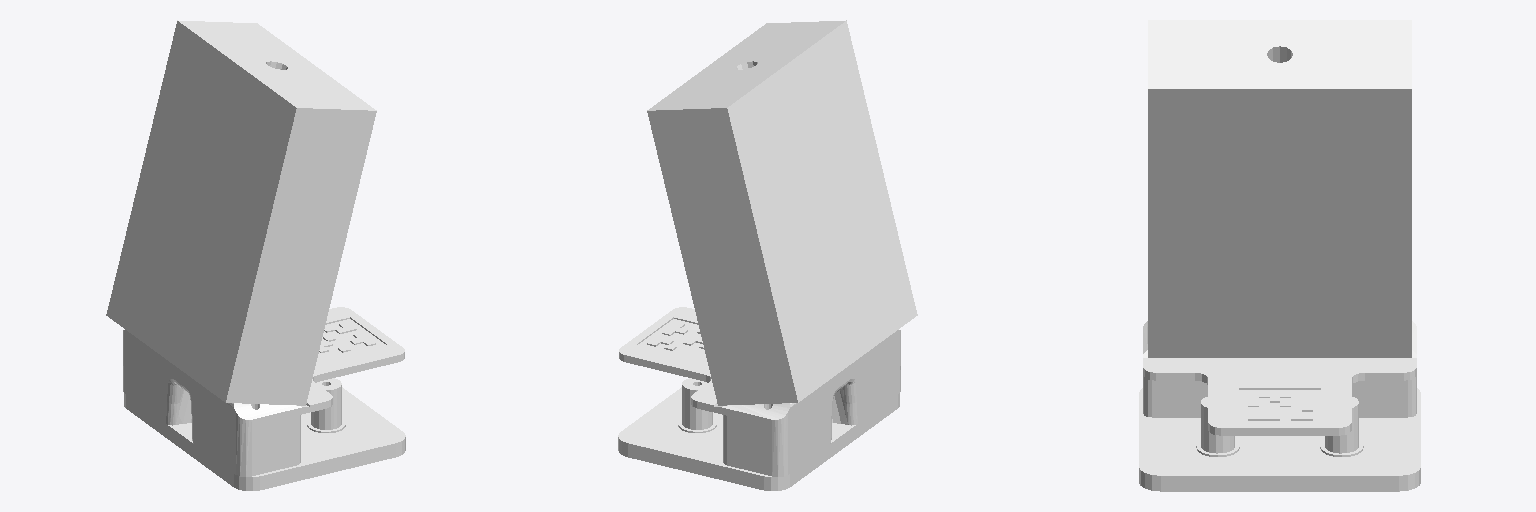
robot.urdf — osmo定位.SLDASM:
<?xml version="1.0" encoding="utf-8"?>
<!-- This URDF was automatically created by SolidWorks to URDF Exporter! Originally created by Stephen Brawner (brawner@gmail.com)
     Commit Version: 1.6.0-4-g7f85cfe  Build Version: 1.6.7995.38578
     For more information, please see http://wiki.ros.org/sw_urdf_exporter -->
<robot
  name="osmo定位.SLDASM">
  <link
    name="base_link">
    <inertial>
      <origin
        xyz="-0.00190800455772091 -5.95801897006382E-08 0.0497136469309621"
        rpy="0 0 0" />
      <mass
        value="0.155014735599179" />
      <inertia
        ixx="0.000110875999057287"
        ixy="-2.31405517320373E-11"
        ixz="-1.51123279184855E-05"
        iyy="7.71809398302612E-05"
        iyz="-9.14781960100981E-12"
        izz="6.46165721659726E-05" />
    </inertial>
    <visual>
      <origin
        xyz="0 0 0"
        rpy="0 0 0" />
      <geometry>
        <mesh
          filename="package://osmo定位.SLDASM/meshes/base_link.STL" />
      </geometry>
      <material
        name="">
        <color
          rgba="1 1 1 1" />
      </material>
    </visual>
    <collision>
      <origin
        xyz="0 0 0"
        rpy="0 0 0" />
      <geometry>
        <mesh
          filename="package://osmo定位.SLDASM/meshes/base_link.STL" />
      </geometry>
    </collision>
  </link>
  <link
    name="Link1">
    <inertial>
      <origin
        xyz="0.037025614515252 0.0305499850421777 -0.00642031161036461"
        rpy="0 0 0" />
      <mass
        value="0.0684750972529842" />
      <inertia
        ixx="2.69677425056663E-05"
        ixy="-2.76963171441598E-05"
        ixz="2.56368474786232E-06"
        iyy="4.07829679383922E-05"
        iyz="1.8004274633898E-06"
        izz="6.17863318013985E-05" />
    </inertial>
    <visual>
      <origin
        xyz="0 0 0"
        rpy="0 0 0" />
      <geometry>
        <mesh
          filename="package://osmo定位.SLDASM/meshes/Link1.STL" />
      </geometry>
      <material
        name="">
        <color
          rgba="0.866666666666667 0.909803921568627 1 0.25" />
      </material>
    </visual>
    <collision>
      <origin
        xyz="0 0 0"
        rpy="0 0 0" />
      <geometry>
        <mesh
          filename="package://osmo定位.SLDASM/meshes/Link1.STL" />
      </geometry>
    </collision>
  </link>
  <joint
    name="joint1"
    type="continuous">
    <origin
      xyz="0.015 0.01425 0.0150999999999998"
      rpy="0 0 0" />
    <parent
      link="base_link" />
    <child
      link="Link1" />
    <axis
      xyz="0 0 1" />
  </joint>
  <link
    name="Link2">
    <inertial>
      <origin
        xyz="0.0441681102714786 -0.0352122754981226 -0.00654217308141667"
        rpy="0 0 0" />
      <mass
        value="0.0462053821261908" />
      <inertia
        ixx="1.65264504105672E-05"
        ixy="1.78398788205766E-05"
        ixz="1.12401183477899E-06"
        iyy="2.6837862406796E-05"
        iyz="-7.91008674742497E-07"
        izz="3.99491949560464E-05" />
    </inertial>
    <visual>
      <origin
        xyz="0 0 0"
        rpy="0 0 0" />
      <geometry>
        <mesh
          filename="package://osmo定位.SLDASM/meshes/Link2.STL" />
      </geometry>
      <material
        name="">
        <color
          rgba="0.796078431372549 0.823529411764706 0.937254901960784 1" />
      </material>
    </visual>
    <collision>
      <origin
        xyz="0 0 0"
        rpy="0 0 0" />
      <geometry>
        <mesh
          filename="package://osmo定位.SLDASM/meshes/Link2.STL" />
      </geometry>
    </collision>
  </link>
  <joint
    name="joint2"
    type="continuous">
    <origin
      xyz="0.015 -0.01425 0.0156999999999998"
      rpy="0 0 0" />
    <parent
      link="base_link" />
    <child
      link="Link2" />
    <axis
      xyz="0 0 1" />
  </joint>
  <link
    name="Link3">
    <inertial>
      <origin
        xyz="-0.0335979788268196 -4.12330453809764E-07 -0.00557940920693485"
        rpy="0 0 0" />
      <mass
        value="0.0223990424799966" />
      <inertia
        ixx="7.64276396027008E-06"
        ixy="-2.31405517313916E-11"
        ixz="-3.14701338125206E-07"
        iyy="3.37569687388949E-06"
        iyz="-9.14781958731569E-12"
        izz="9.73699898929575E-06" />
    </inertial>
    <visual>
      <origin
        xyz="0 0 0"
        rpy="0 0 0" />
      <geometry>
        <mesh
          filename="package://osmo定位.SLDASM/meshes/Link3.STL" />
      </geometry>
      <material
        name="">
        <color
          rgba="1 1 1 1" />
      </material>
    </visual>
    <collision>
      <origin
        xyz="0 0 0"
        rpy="0 0 0" />
      <geometry>
        <mesh
          filename="package://osmo定位.SLDASM/meshes/Link3.STL" />
      </geometry>
    </collision>
  </link>
  <joint
    name="joint3"
    type="fixed">
    <origin
      xyz="0.02625 0 0.0196"
      rpy="0 0 0" />
    <parent
      link="base_link" />
    <child
      link="Link3" />
    <axis
      xyz="0 0 0" />
  </joint>
</robot>

--- What the picture shows (computed from the rendered views, not written in the file) ---
3 views of the same robot in one strip: view 1: azimuth 30°, elevation 25°; view 2: azimuth 150°, elevation 25°; view 3: azimuth 270°, elevation 25° (orthographic).
Robot: osmo定位.SLDASM — 4 links, 3 joints (2 continuous, 1 fixed); root link base_link; default pose: every joint at zero.
Visible links, largest first — view 1: base_link; view 2: base_link; view 3: base_link.
Link boxes in pixels (left/top/right/bottom): base_link: left=106, top=20, right=405, bottom=490; base_link: left=618, top=20, right=917, bottom=490; base_link: left=1139, top=20, right=1420, bottom=491.
Size in the robot's own frame: 0.0624 by 0.065 by 0.1042 metres.
2 mesh visuals loaded from 4 distinct referenced files (2 binary STL); not drawn: 2 (reference not matched to a file when rendering).
